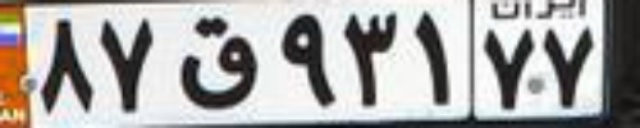1: (408, 12, 448, 106)
3: (344, 11, 399, 106)
7: (98, 18, 159, 112), (479, 27, 533, 111), (543, 26, 594, 109)
8: (34, 16, 92, 114)
9: (274, 11, 335, 106)
ghaf: (177, 14, 261, 113)
